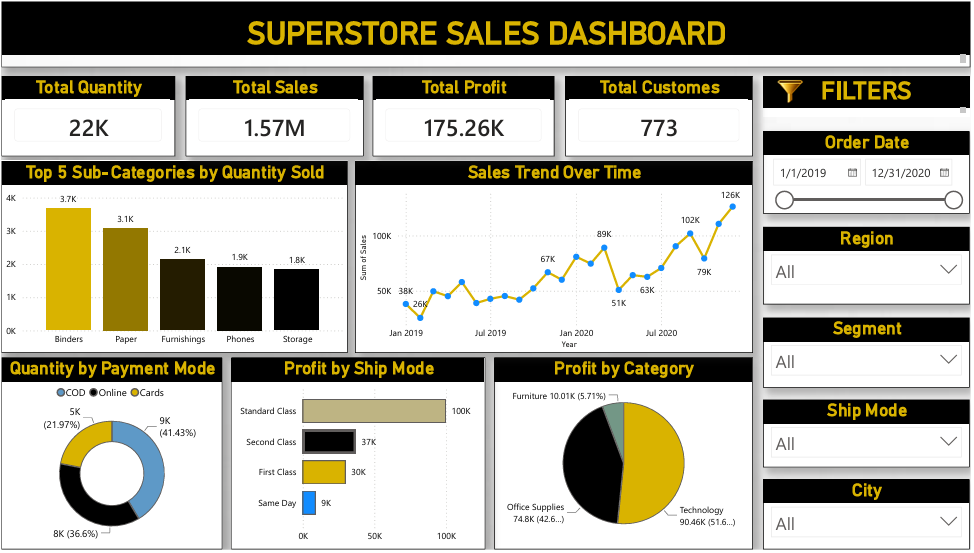

Layout of this report page (visuals, bound fields, positions):
{"tool":"powerbi","page":{"name":"Page 1","canvas":[1337,756],"ordinal":0},"visuals":[{"type":"textbox","title":"SUPERSTORE SALES DASHBOARD","box":[0,0,1337,90.6],"z":0},{"type":"cardVisual","title":"Total Quantity","fields":{"Data":["Sum(Superstore_Dataset.Quantity)"]},"box":[0,102.7,239.6,111.6],"z":1000},{"type":"columnChart","title":"Top 5 Sub-Categories by Quantity Sold","fields":{"Y":["Sum(Superstore_Dataset.Quantity)"],"Category":["Superstore_Dataset.Sub-Category"]},"box":[0,220.3,474.7,264.9],"z":2000},{"type":"donutChart","title":"Quantity  by Payment Mode","fields":{"Category":["Superstore_Dataset.Payment Mode"],"Y":["Sum(Superstore_Dataset.Quantity)"]},"box":[0,491.1,305.1,264.9],"z":3000},{"type":"pieChart","title":"Profit by Category","fields":{"Category":["Superstore_Dataset.Category"],"Y":["Sum(Superstore_Dataset.Profit)"]},"box":[680.1,491.1,357.2,264.9],"z":4000},{"type":"slicer","title":"Order Date","fields":{"Values":["Superstore_Dataset.Fixed_Date"]},"box":[1050.7,178.6,285.7,114.6],"z":5000},{"type":"slicer","title":"Region","fields":{"Values":["Superstore_Dataset.Region"]},"box":[1050.7,311,285.7,107.1],"z":6000},{"type":"slicer","title":"City","fields":{"Values":["Superstore_Dataset.City"]},"box":[1050.7,659.3,285.7,96.7],"z":7000},{"type":"lineChart","title":"Sales Trend Over Time","fields":{"Y":["Sum(Superstore_Dataset.Sales)"],"Category":["Superstore_Dataset.Fixed_Date.Variation.Date Hierarchy.Year","Superstore_Dataset.Fixed_Date.Variation.Date Hierarchy.Month"]},"box":[488.1,220.3,549.1,264.9],"z":8000},{"type":"slicer","title":"Segment","fields":{"Values":["Superstore_Dataset.Segment"]},"box":[1050.7,436,285.7,96.7],"z":9000},{"type":"slicer","title":"Ship Mode","fields":{"Values":["Superstore_Dataset.Ship Mode"]},"box":[1050.7,549.1,285.7,93.8],"z":10000},{"type":"barChart","title":"Profit by Ship Mode","fields":{"Category":["Superstore_Dataset.Ship Mode"],"Y":["Sum(Superstore_Dataset.Profit)"]},"box":[317,491.1,351.2,264.9],"z":11000},{"type":"textbox","title":"FILTERS","box":[1050.7,102.7,285.7,56.6],"z":12000},{"type":"image","box":[1012,102.7,153.3,43.2],"z":13000},{"type":"cardVisual","title":"Total Sales","fields":{"Data":["Sum(Superstore_Dataset.Sales)"]},"box":[254.5,102.7,245.6,111.6],"z":14000},{"type":"cardVisual","title":"Total Profit","fields":{"Data":["Sum(Superstore_Dataset.Profit)"]},"box":[511.9,102.7,251.5,111.6],"z":15000},{"type":"cardVisual","title":"Total Customes","fields":{"Data":["Superstore_Dataset.Total customers"]},"box":[778.3,102.7,258.9,111.6],"z":16000}]}

Visuals, with their boxes in screenshot pixels (x1, y1, x2, y2), scaled from the page's 1337x756 canvas onto the 974x553 screenshot:
"SUPERSTORE SALES DASHBOARD" textbox: region(0, 0, 973, 66)
"Total Quantity" cardVisual: region(0, 75, 175, 157)
"Top 5 Sub-Categories by Quantity Sold" columnChart: region(0, 161, 346, 355)
"Quantity  by Payment Mode" donutChart: region(0, 359, 222, 552)
"Profit by Category" pieChart: region(495, 359, 756, 552)
"Order Date" slicer: region(765, 131, 973, 214)
"Region" slicer: region(765, 227, 973, 306)
"City" slicer: region(765, 482, 973, 552)
"Sales Trend Over Time" lineChart: region(356, 161, 756, 355)
"Segment" slicer: region(765, 319, 973, 390)
"Ship Mode" slicer: region(765, 402, 973, 470)
"Profit by Ship Mode" barChart: region(231, 359, 487, 552)
"FILTERS" textbox: region(765, 75, 973, 117)
image: region(737, 75, 849, 107)
"Total Sales" cardVisual: region(185, 75, 364, 157)
"Total Profit" cardVisual: region(373, 75, 556, 157)
"Total Customes" cardVisual: region(567, 75, 756, 157)
